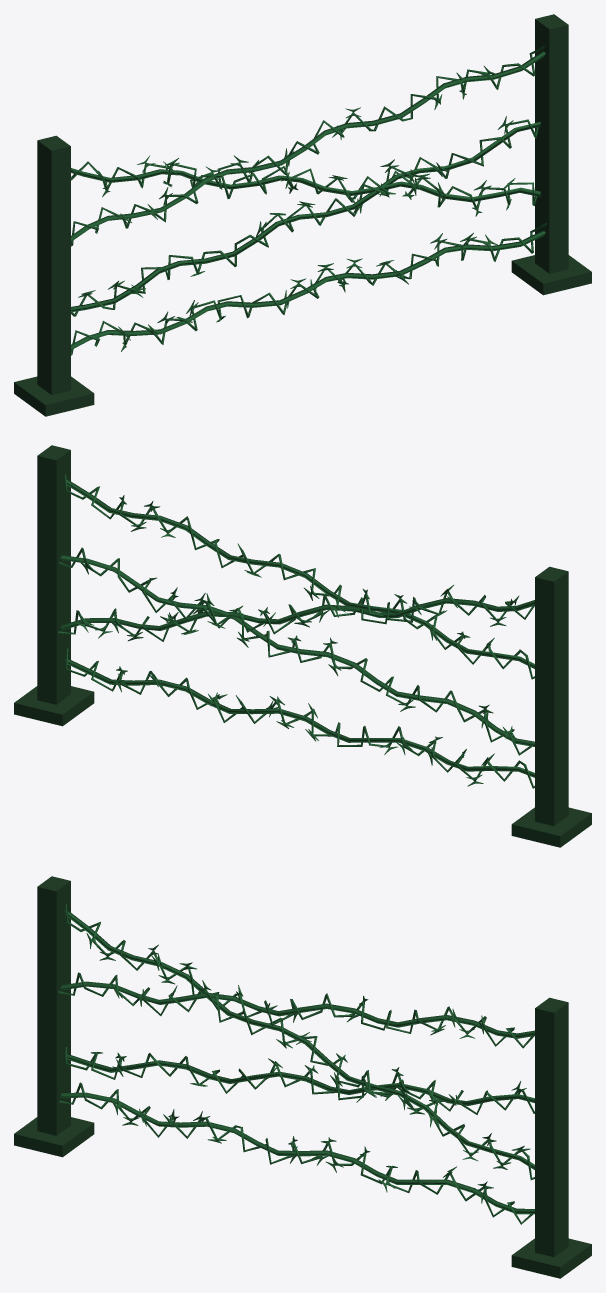
File: Barbed_Wire.fbx
The picture shows the model from 3 angles, top to bottom: view 1: azimuth 30°, elevation 25°; view 2: azimuth 150°, elevation 25°; view 3: azimuth 330°, elevation 25°; orthographic projection.
Parts seen in each view (by area): view 1: Trap_BarbedWire; view 2: Trap_BarbedWire; view 3: Trap_BarbedWire.
Part boxes in pixels (bbox=[...]): Trap_BarbedWire: bbox=[14, 14, 591, 416]; Trap_BarbedWire: bbox=[14, 445, 591, 847]; Trap_BarbedWire: bbox=[14, 876, 591, 1278].
Size of the model in its own units: 0.1 by 0.0448 by 0.01.
Materials: 1 (1 with a texture image).
